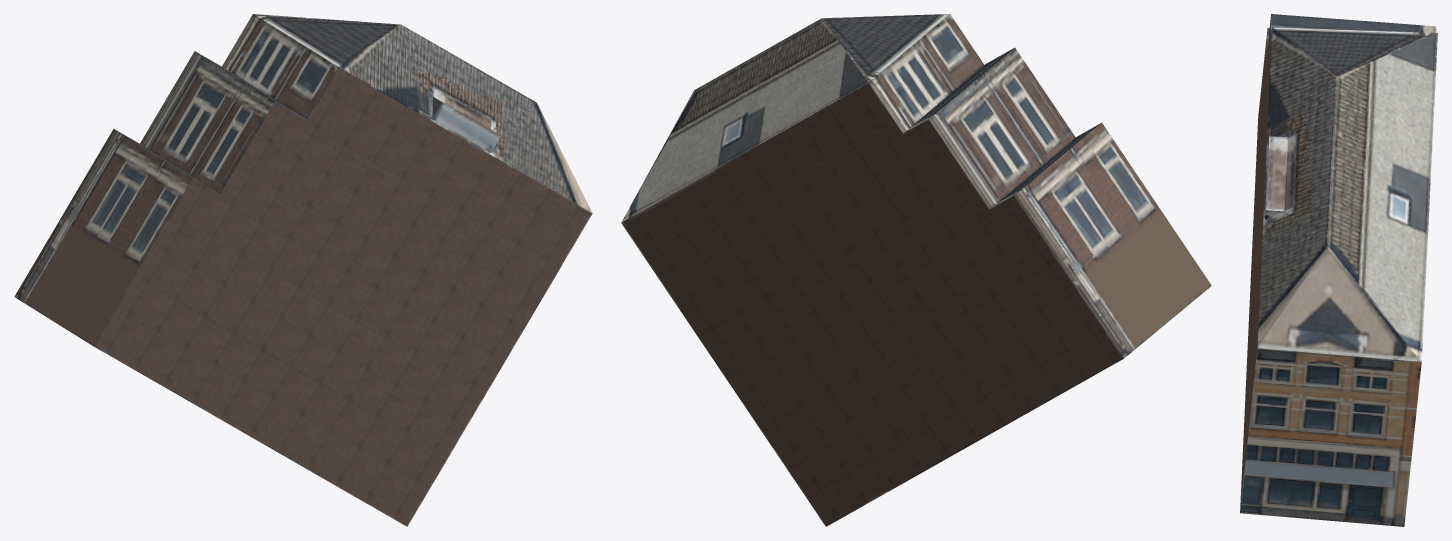
The picture shows the model from 3 angles, left to right: view 1: azimuth 30°, elevation 25°; view 2: azimuth 150°, elevation 25°; view 3: azimuth 270°, elevation 25°; orthographic projection.
Parts seen in each view (by area): view 1: BAG_0599100000671705 (×4); view 2: BAG_0599100000671705 (×3); view 3: BAG_0599100000671705 (×5).
Part boxes in pixels (left/top/right/bottom): BAG_0599100000671705 (×4): left=14, top=14, right=592, bottom=526; BAG_0599100000671705 (×3): left=621, top=14, right=1211, bottom=526; BAG_0599100000671705 (×5): left=1240, top=14, right=1437, bottom=526.
Bounding box in the file's own units: 19.03 × 17.11 × 6.5.
Materials: 1 (1 with a texture image).
